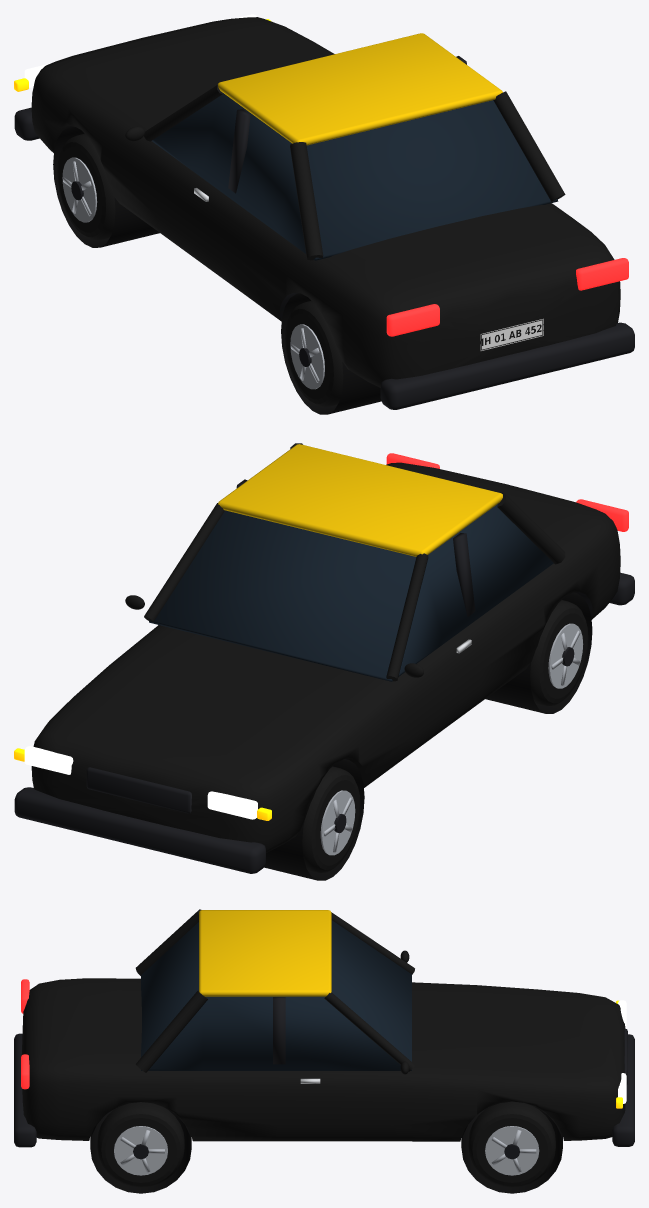
File: taxi.glb
3 renders of one model, top to bottom at view 1: azimuth 30°, elevation 25°; view 2: azimuth 150°, elevation 25°; view 3: azimuth 270°, elevation 25°, orthographic. The views are drawn at different scales.
Visible parts, largest first — view 1: body, car_Glass, car_Roof, car_Trim, car_Rubber, car_CarPaint, car_ArchLiner, car_RimSilver, car_TailLight, car_PlateMH; view 2: body, car_Glass, car_Roof, car_Trim, car_Rubber, car_CarPaint, car_ArchLiner, car_RimSilver, car_HeadLight, car_TailLight; view 3: body, car_Glass, car_Roof, car_Rubber, car_CarPaint, car_Trim, car_RimSilver, car_ArchLiner, car_TailLight.
Boxes of the visible parts, x1=… form: body: x1=31, y1=17, x2=620, y2=387; car_Glass: x1=152, y1=92, x2=558, y2=260; car_Roof: x1=218, y1=33, x2=502, y2=145; car_Trim: x1=14, y1=56, x2=634, y2=409; car_Rubber: x1=57, y1=133, x2=343, y2=406; car_CarPaint: x1=125, y1=85, x2=565, y2=260; car_ArchLiner: x1=53, y1=126, x2=381, y2=414; car_RimSilver: x1=62, y1=157, x2=324, y2=389; car_TailLight: x1=386, y1=258, x2=628, y2=336; car_PlateMH: x1=480, y1=318, x2=543, y2=350; body: x1=31, y1=462, x2=620, y2=852; car_Glass: x1=149, y1=504, x2=553, y2=681; car_Roof: x1=218, y1=444, x2=502, y2=556; car_Trim: x1=14, y1=479, x2=634, y2=873; car_Rubber: x1=302, y1=600, x2=588, y2=872; car_CarPaint: x1=125, y1=443, x2=565, y2=681; car_ArchLiner: x1=264, y1=592, x2=592, y2=880; car_RimSilver: x1=320, y1=623, x2=583, y2=855; car_HeadLight: x1=24, y1=746, x2=257, y2=819; car_TailLight: x1=386, y1=453, x2=628, y2=531; body: x1=21, y1=978, x2=625, y2=1141; car_Glass: x1=141, y1=920, x2=411, y2=1070; car_Roof: x1=199, y1=910, x2=331, y2=996; car_Rubber: x1=97, y1=1101, x2=555, y2=1187; car_CarPaint: x1=135, y1=909, x2=414, y2=1074; car_Trim: x1=14, y1=997, x2=634, y2=1159; car_RimSilver: x1=114, y1=1126, x2=539, y2=1175; car_ArchLiner: x1=90, y1=1101, x2=562, y2=1193; car_TailLight: x1=21, y1=979, x2=29, y2=1089.
Bounding box in the file's own units: 1.99 × 1.52 × 4.4.
Materials: 12 (1 with a texture image).
